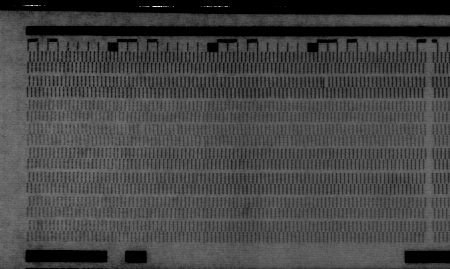Oblique printing: (265, 86, 278, 100), (319, 76, 332, 89)
